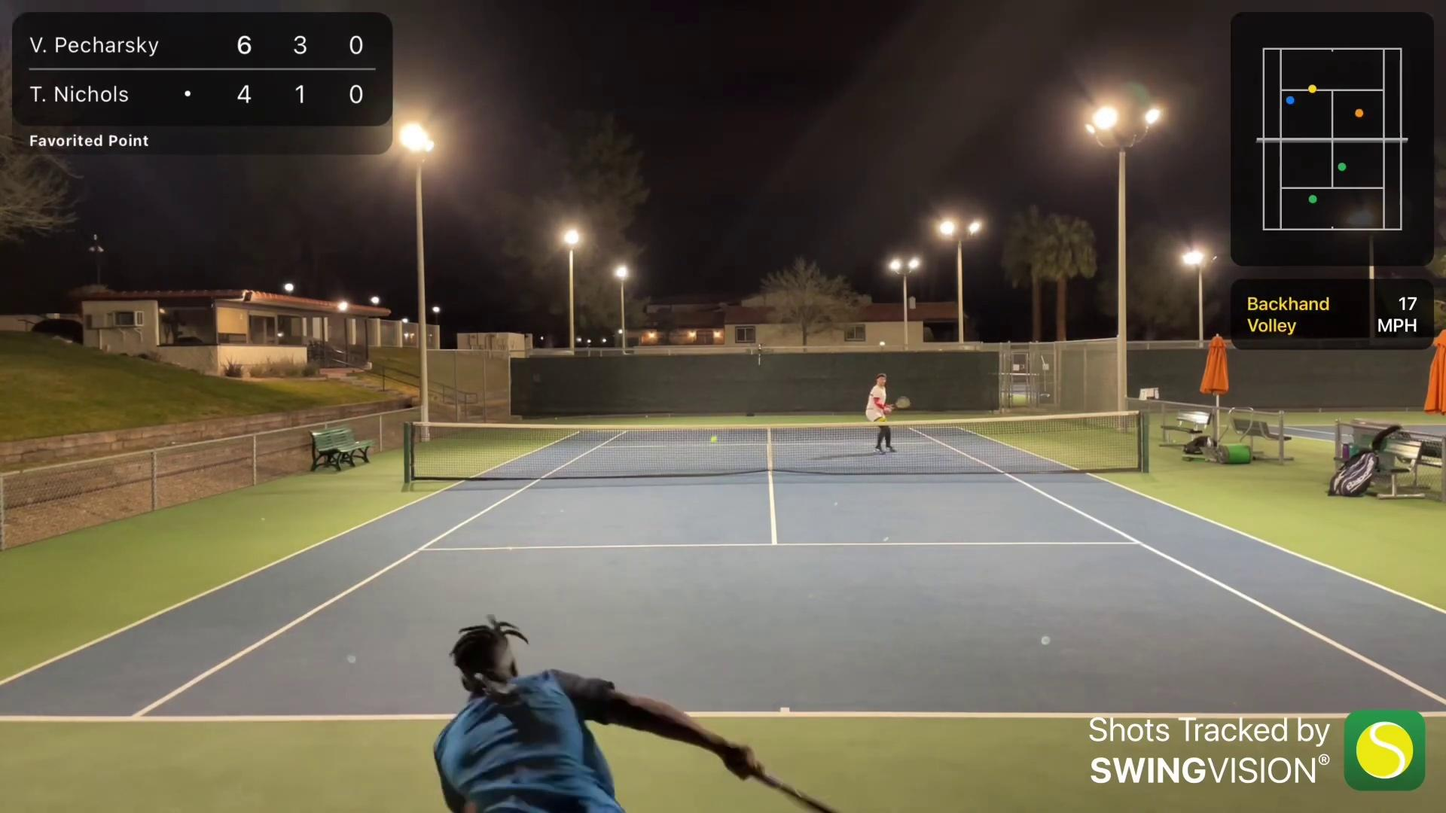ball: (706, 434, 720, 448)
